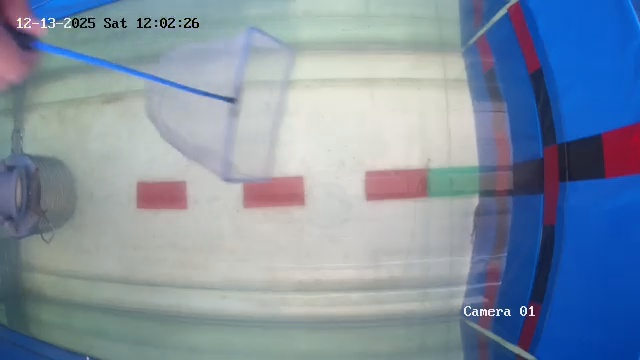fish: (467, 196, 491, 239)
